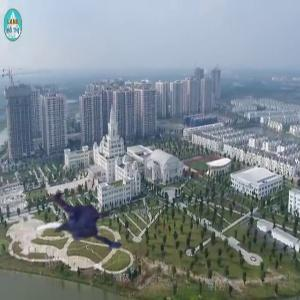drone: (19, 166, 135, 282)
